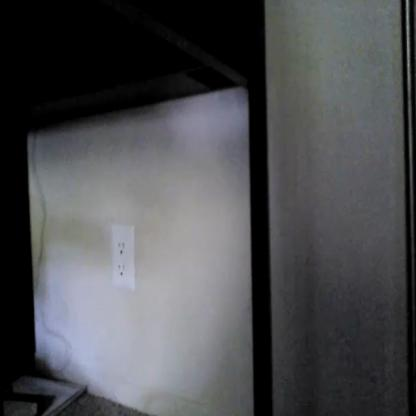OUTLET: (112, 224, 135, 290)
